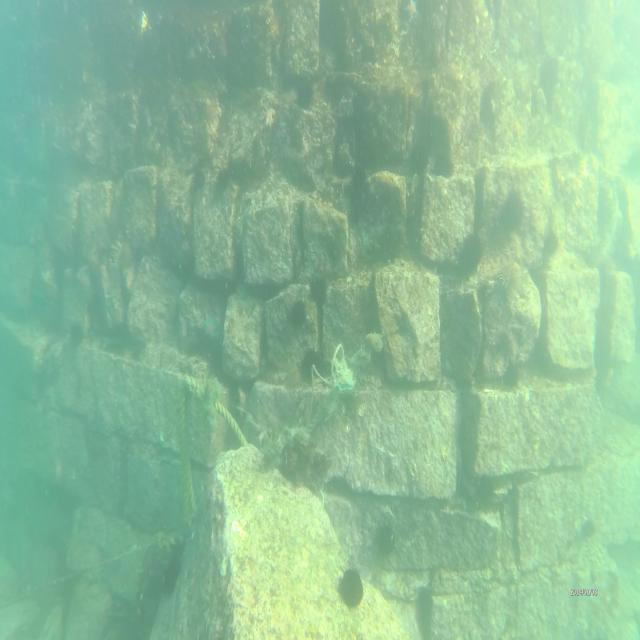echinus: (500, 181, 528, 239), (338, 562, 367, 614), (157, 550, 186, 598), (495, 257, 525, 300), (458, 226, 483, 274), (300, 345, 326, 387), (500, 352, 522, 394), (375, 517, 397, 558), (430, 150, 454, 180), (69, 311, 87, 351), (296, 78, 316, 113), (309, 275, 330, 304), (579, 514, 597, 542), (191, 163, 207, 194), (291, 300, 306, 330), (217, 167, 231, 195)
starfish: (201, 312, 223, 356), (507, 30, 525, 66), (401, 0, 420, 27)
